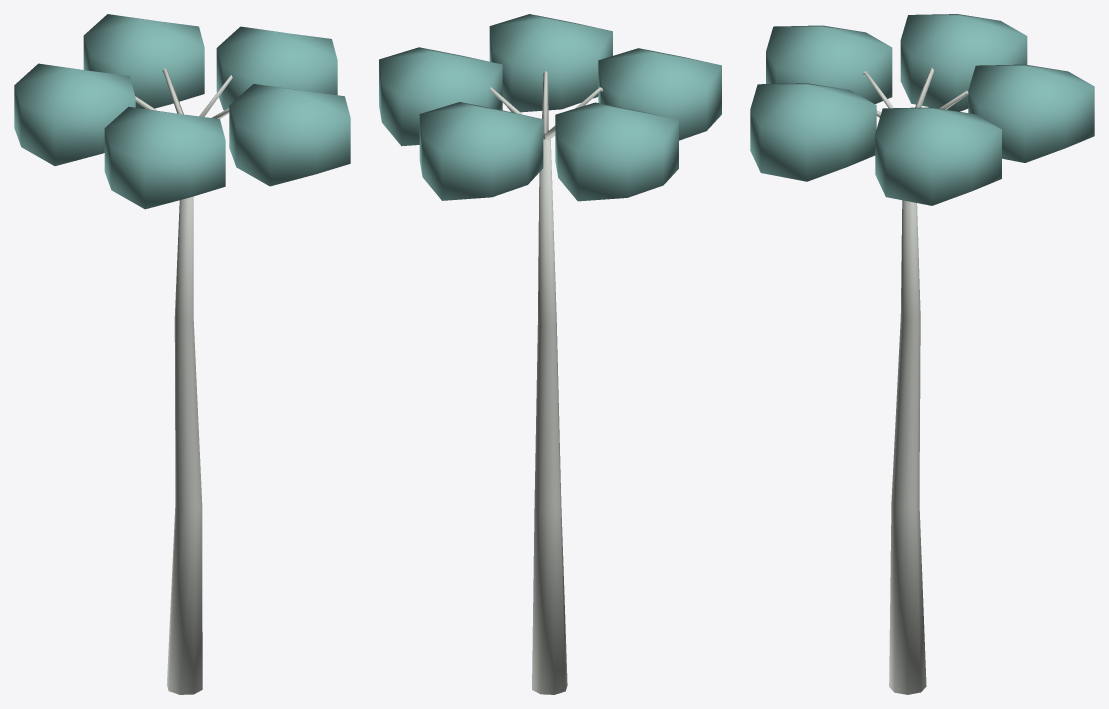
File: tree_blue_gum.glb
3 renders of one model, left to right at view 1: azimuth 30°, elevation 25°; view 2: azimuth 150°, elevation 25°; view 3: azimuth 270°, elevation 25°, orthographic.
Parts seen in each view (by area): view 1: Flora_Blue_Gum; view 2: Flora_Blue_Gum; view 3: Flora_Blue_Gum.
Boxes of the visible parts, x1,y1,x2,y2 form: Flora_Blue_Gum: (14,14,350,694); Flora_Blue_Gum: (379,14,721,694); Flora_Blue_Gum: (750,14,1094,694).
Bounding box in the file's own units: 5.94 × 11.86 × 5.89.
